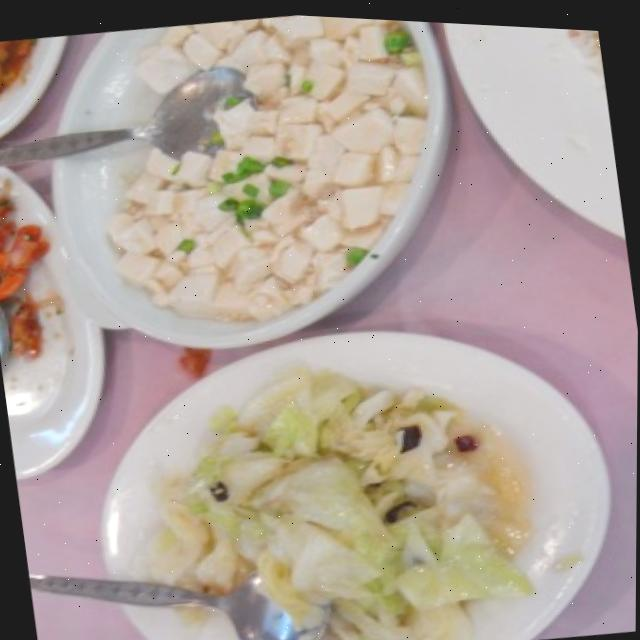蔬菜料理: (127, 344, 536, 640)
